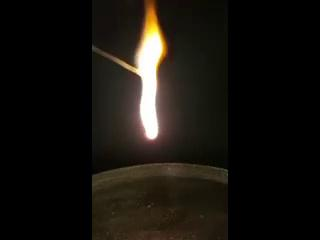Fire: (137, 6, 165, 141)
